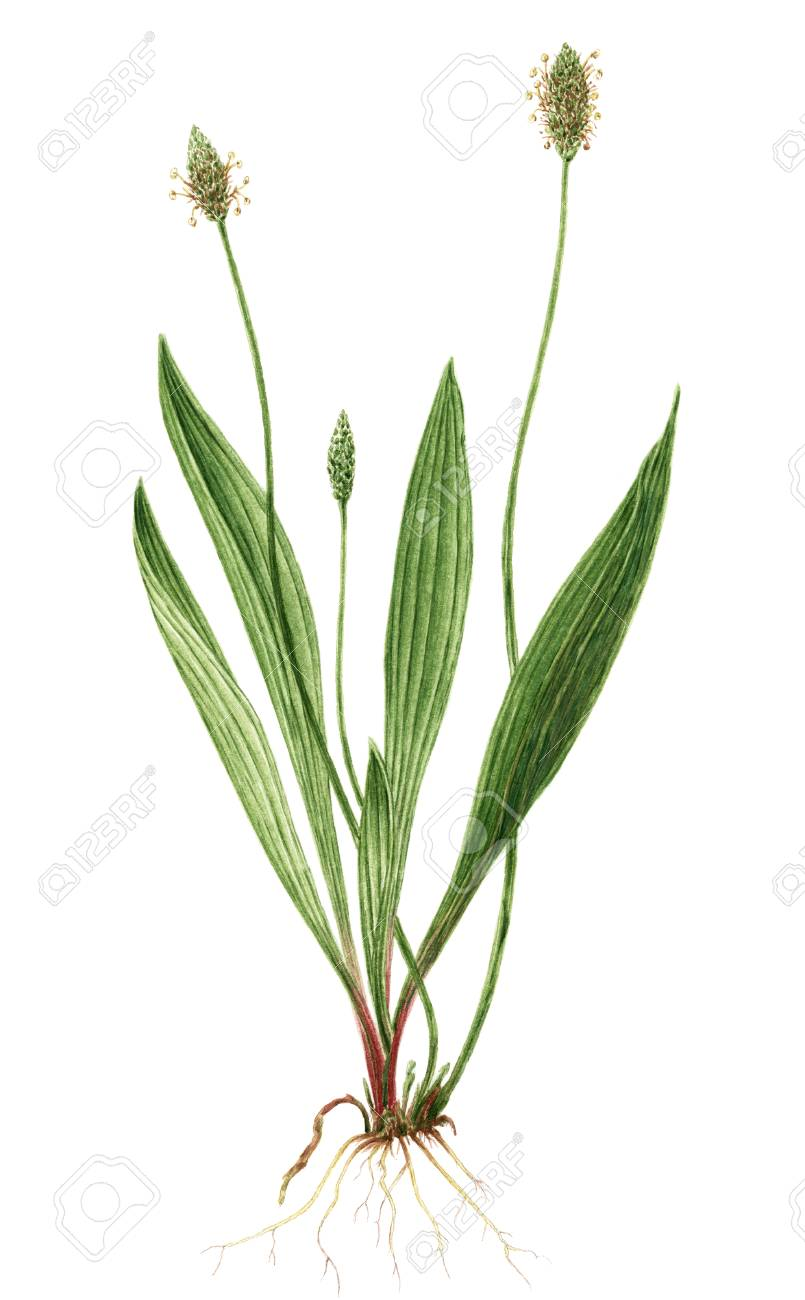buckhorn plantain: (68, 30, 648, 974)
